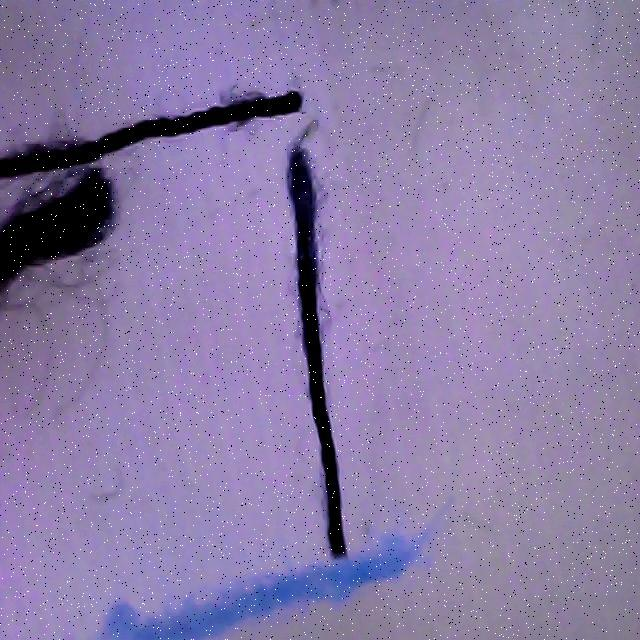fibers: (0, 79, 306, 184), (285, 143, 347, 559), (0, 164, 132, 292), (0, 1, 1, 1)
